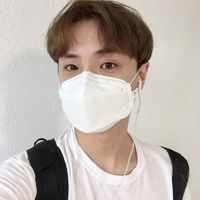face_mask: (56, 23, 135, 128)
